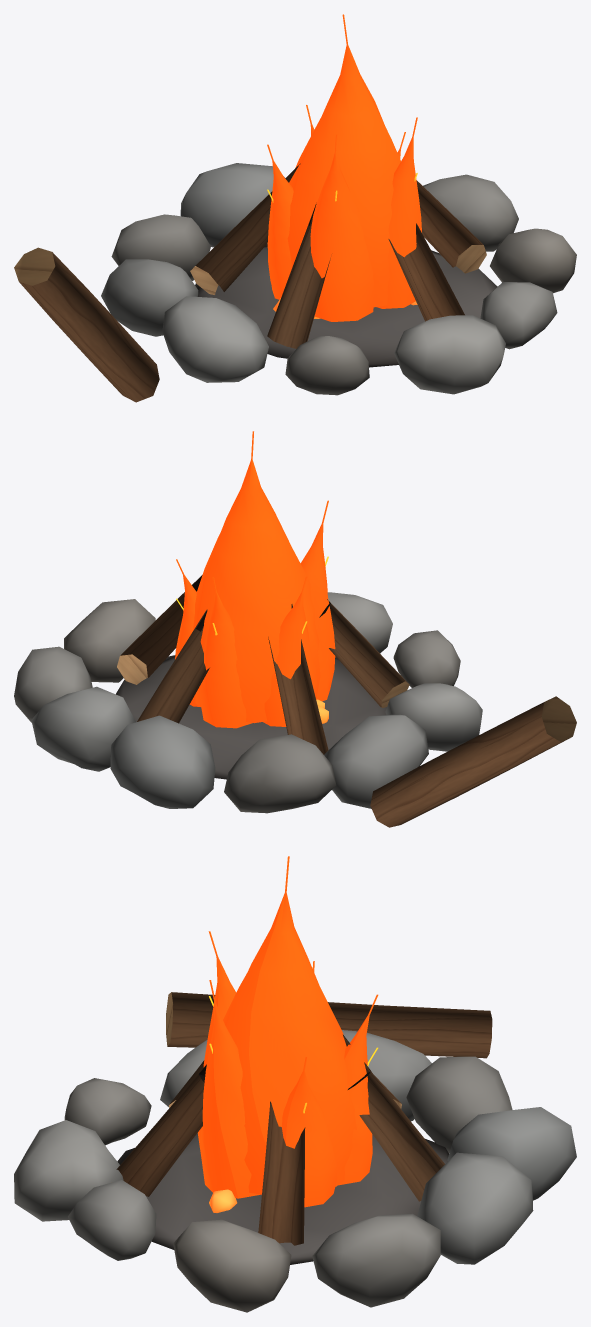
Rendered from campfire.glb.
3 renders of one model, top to bottom at view 1: azimuth 30°, elevation 25°; view 2: azimuth 150°, elevation 25°; view 3: azimuth 270°, elevation 25°, orthographic. The views are drawn at different scales.
Parts seen in each view (by area): view 1: logs_stones, flame; view 2: logs_stones, flame; view 3: logs_stones, flame.
Boxes of the visible parts, x1,y1,x2,y2 form: logs_stones: (14,163,576,402); flame: (267,14,421,321); logs_stones: (14,575,576,827); flame: (175,431,335,728); logs_stones: (14,992,576,1312); flame: (197,856,378,1207).
Size of the model in its own units: 1.4 by 0.8615 by 1.23.
5 materials, 1 textured.
